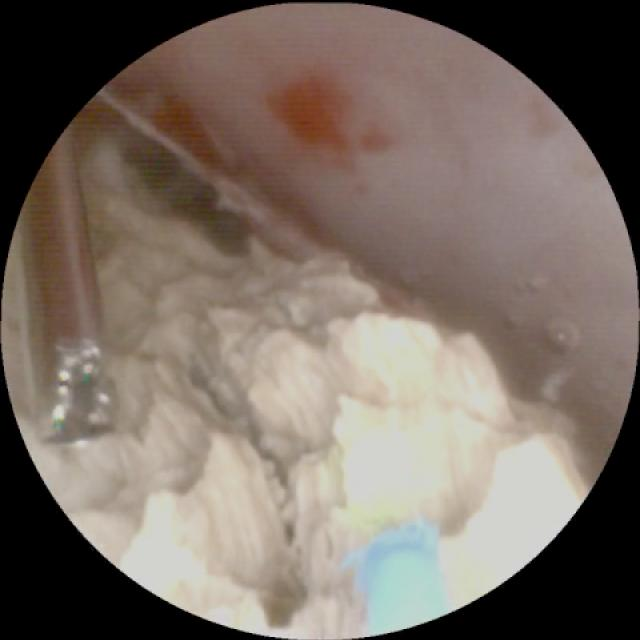fiber: (353, 524, 450, 630)
stone: (48, 129, 585, 632)
tissue: (93, 10, 626, 426)
